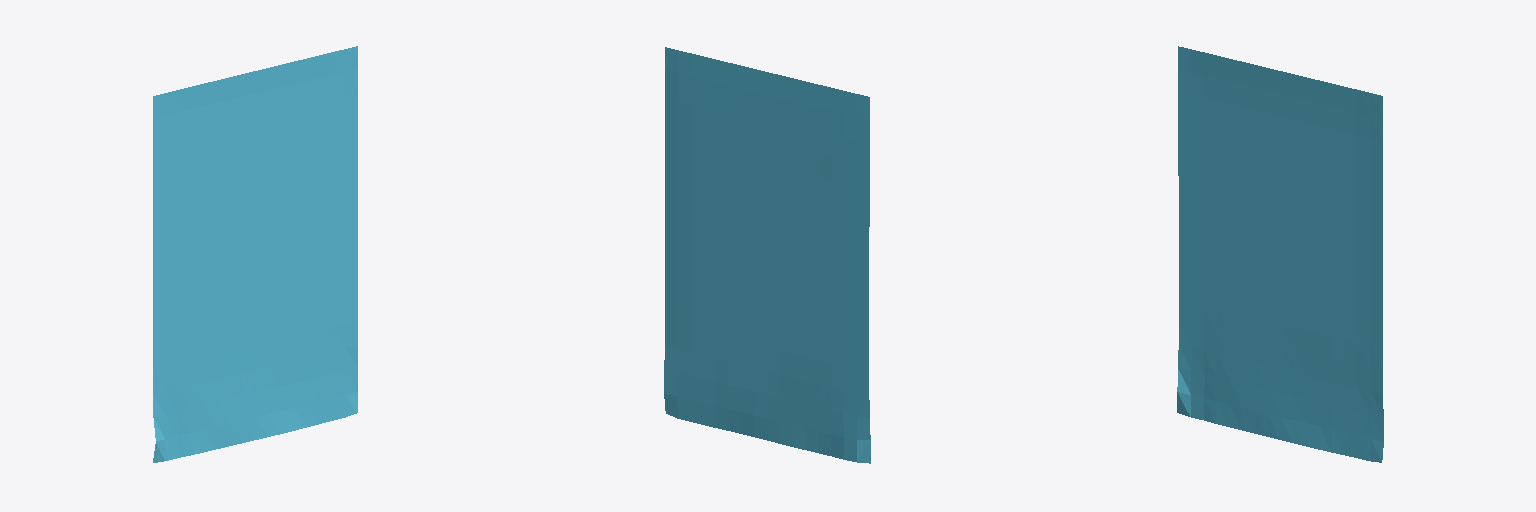
File: flag.obj
The picture shows the model from 3 angles: view 1: azimuth 30°, elevation 25°; view 2: azimuth 150°, elevation 25°; view 3: azimuth 330°, elevation 25°; orthographic projection.
Parts seen in each view (by area): view 1: flag; view 2: flag; view 3: flag.
Part boxes in pixels (left/top/right/bottom): flag: left=153, top=46, right=357, bottom=462; flag: left=664, top=47, right=870, bottom=463; flag: left=1177, top=46, right=1383, bottom=462.
Bounding box in the file's own units: 0.0549 × 0.094 × 0.0011.